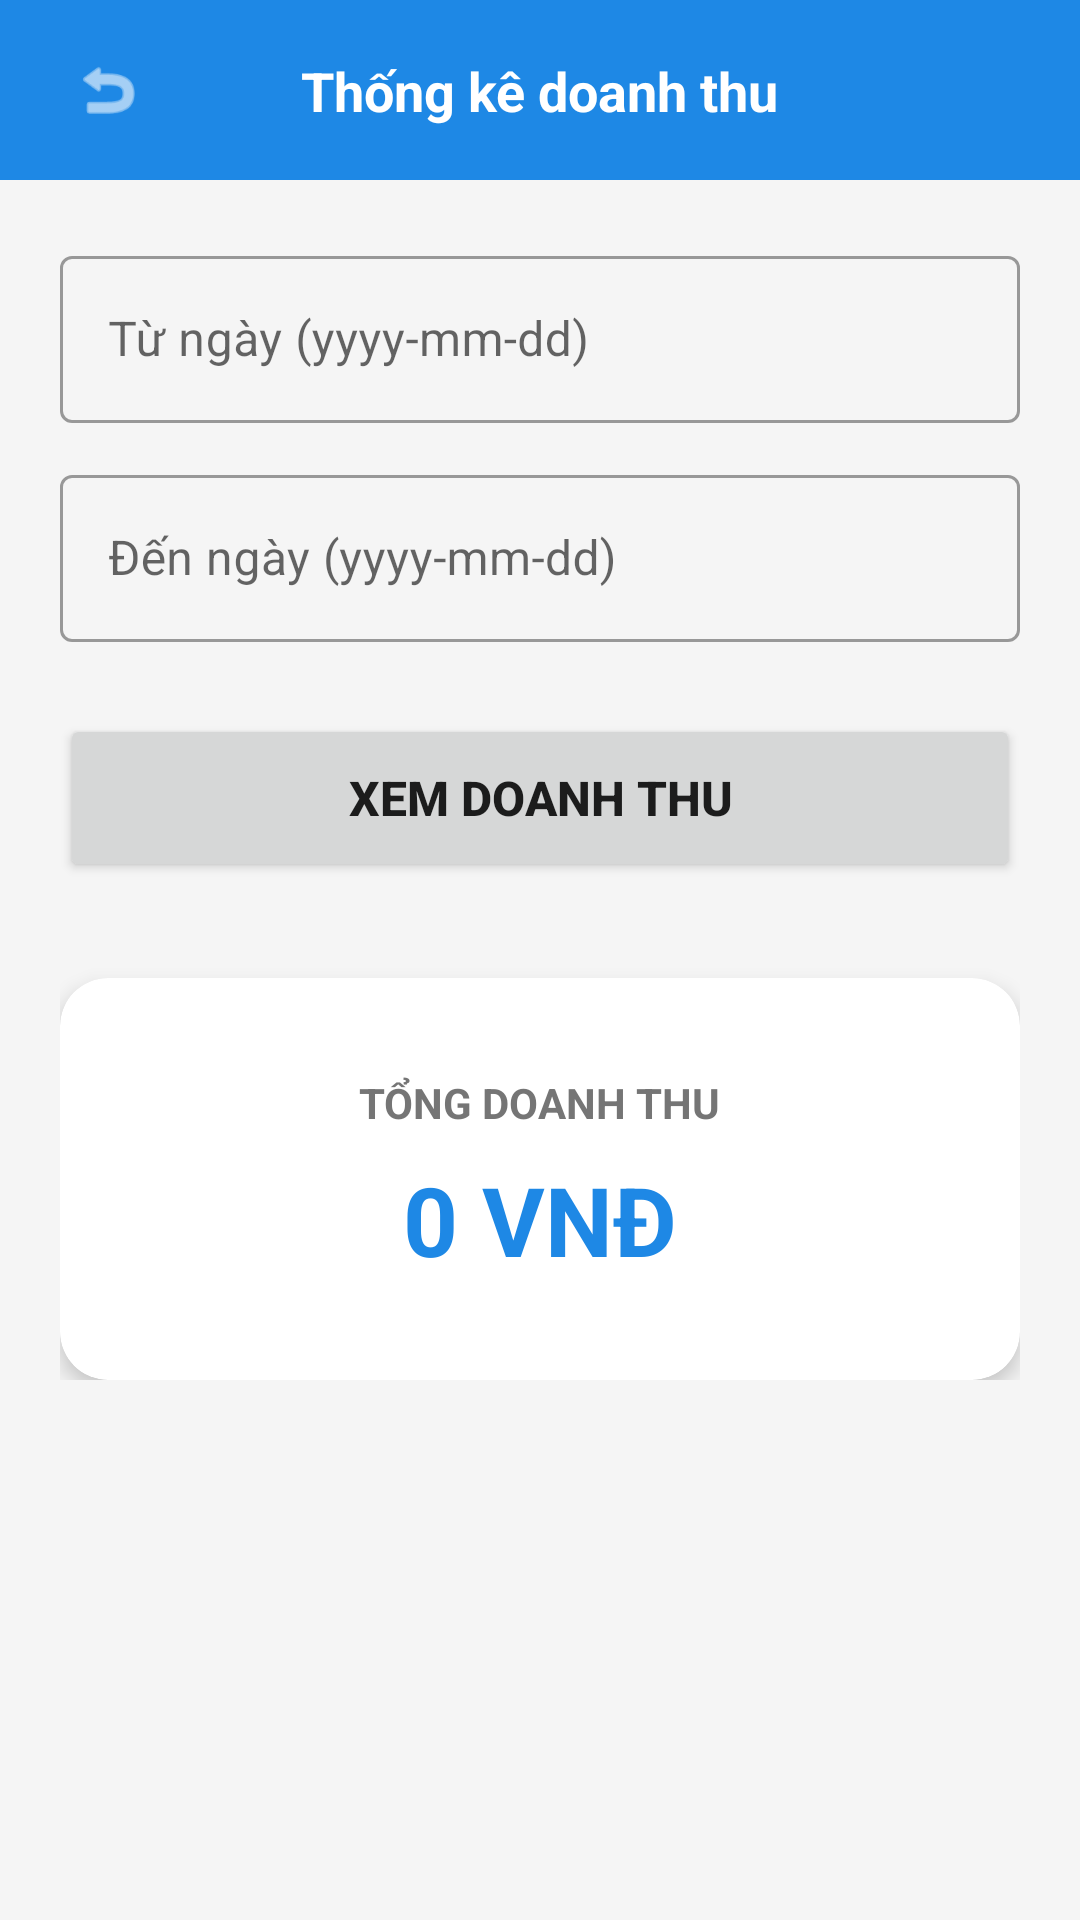

Where icons sit on this 1080×1920 app screen, as (x1, y1, x2, y2):
revert: (83, 67, 135, 114)
